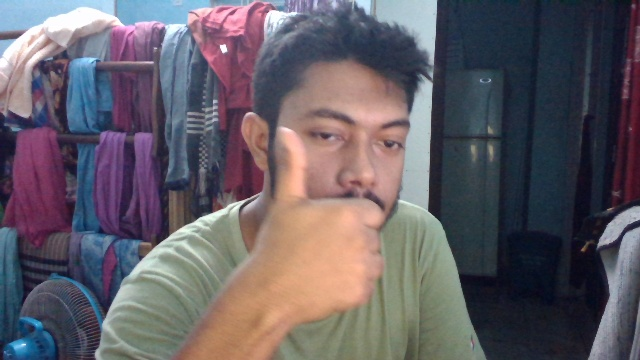yes: (254, 121, 386, 321)
